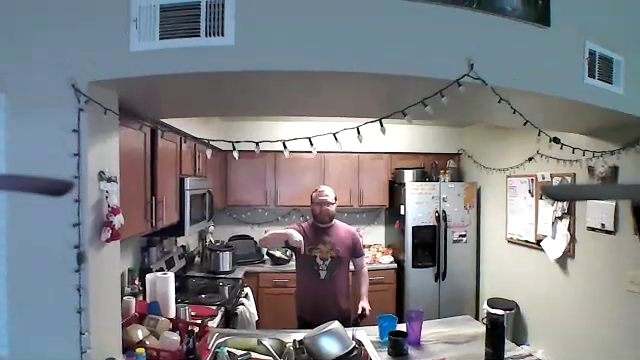down: (282, 221, 307, 258)
